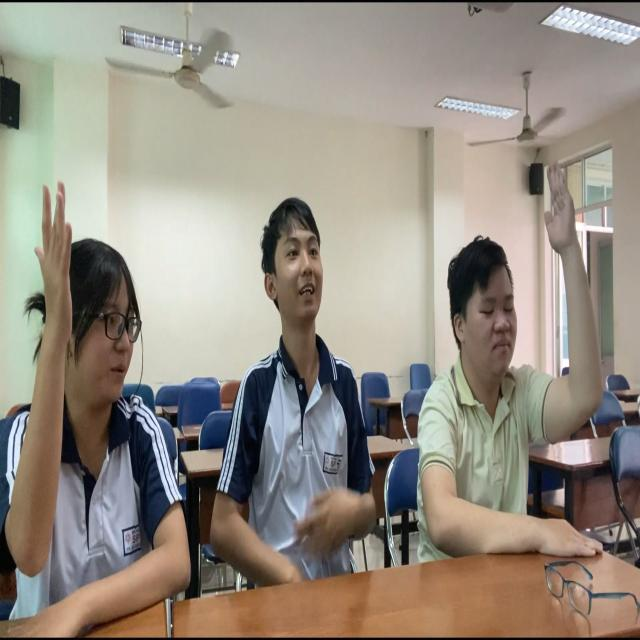raise_hand: (1, 182, 185, 640), (406, 150, 607, 563)
